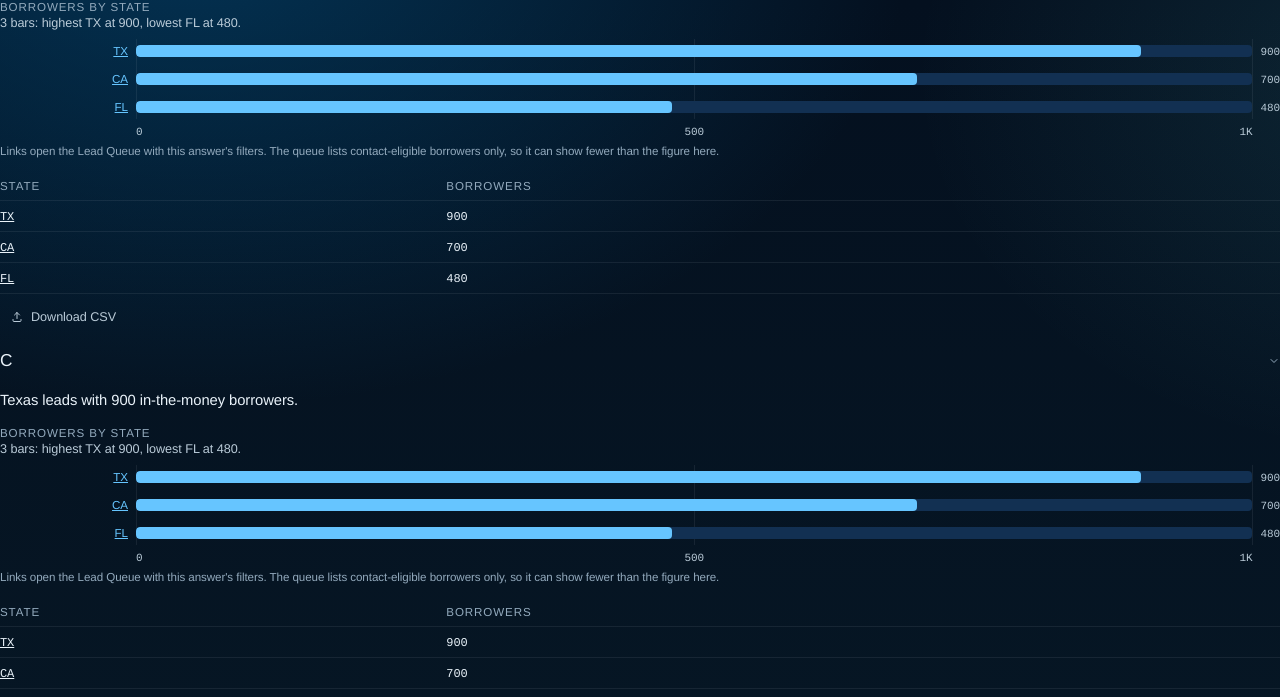
GenieAnswer deep-research sections › an outline entry opens its section, scrolls its heading smooth and focuses its toggle
(page scrolled)
Click the button with class "genie-answer__section-toggle": (6, 360) [0,349,1279,373]
(page scrolled)
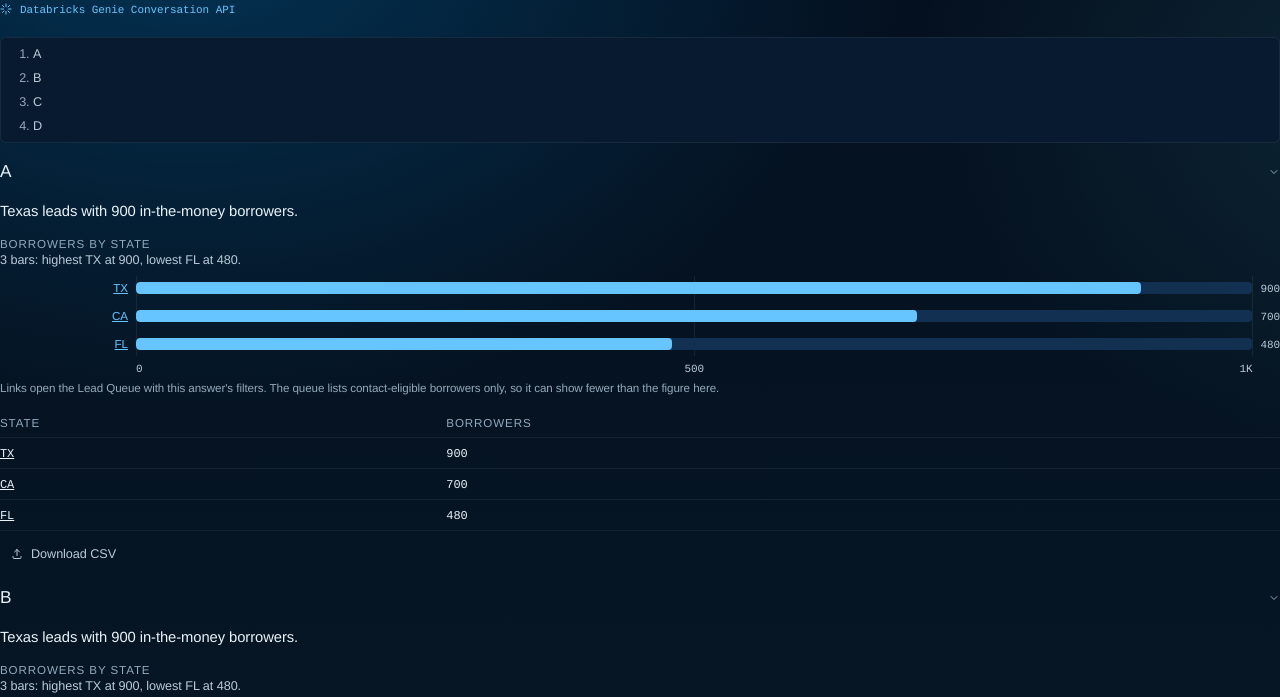
Click the button with class "genie-answer__outline-link" showing "C": (38, 102) [33,90,1267,114]
(page scrolled)
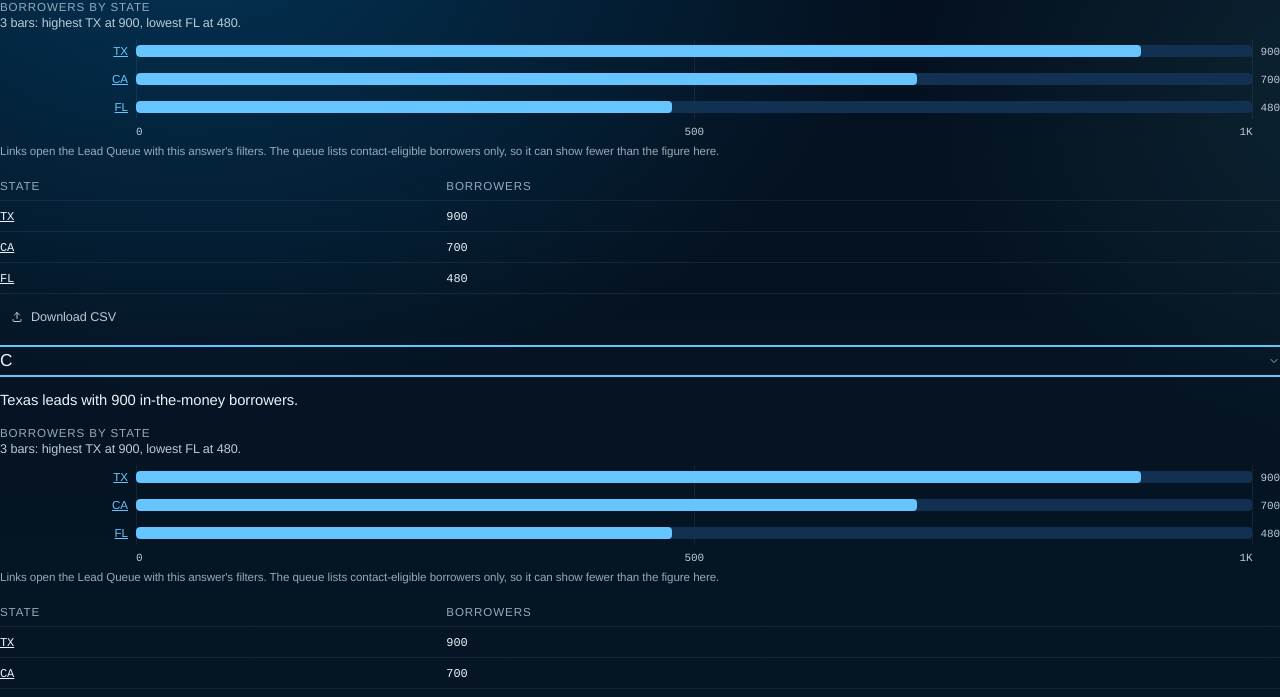
Check: the button with class "genie-answer__section-toggle" is expanded, box [0,349,1279,373]
